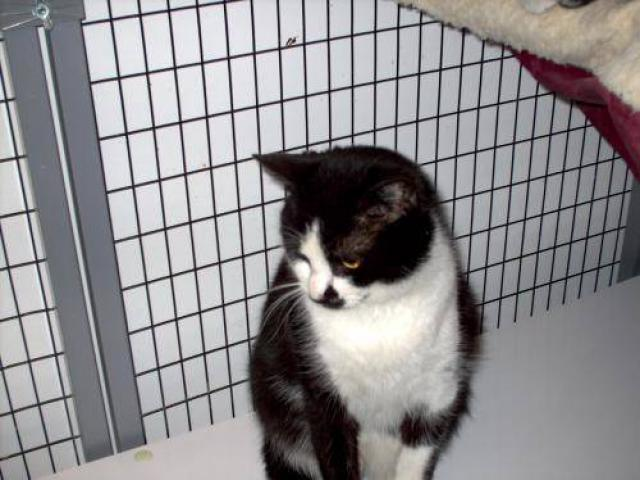cat: (237, 141, 481, 478)
